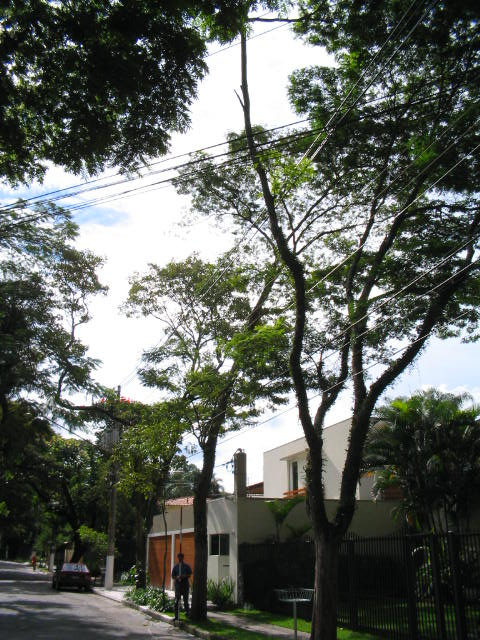stem: (189, 448, 221, 621)
stick: (176, 504, 186, 623)
tree: (128, 129, 305, 622)
